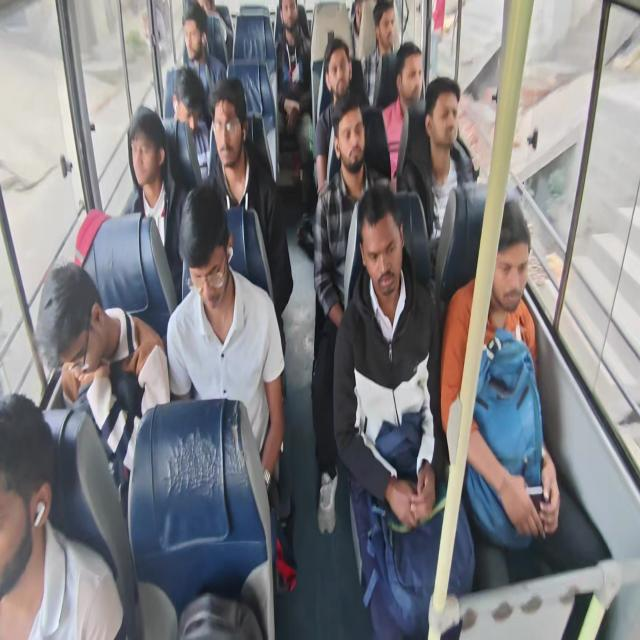person: (3, 403, 58, 574), (42, 270, 108, 378), (182, 197, 234, 308), (482, 204, 530, 314), (354, 202, 402, 298), (128, 132, 166, 208), (212, 94, 249, 166), (171, 68, 204, 137), (331, 117, 371, 171), (429, 87, 458, 158), (321, 46, 354, 98), (397, 54, 422, 104), (182, 15, 206, 62), (278, 3, 302, 43), (377, 8, 395, 43)
